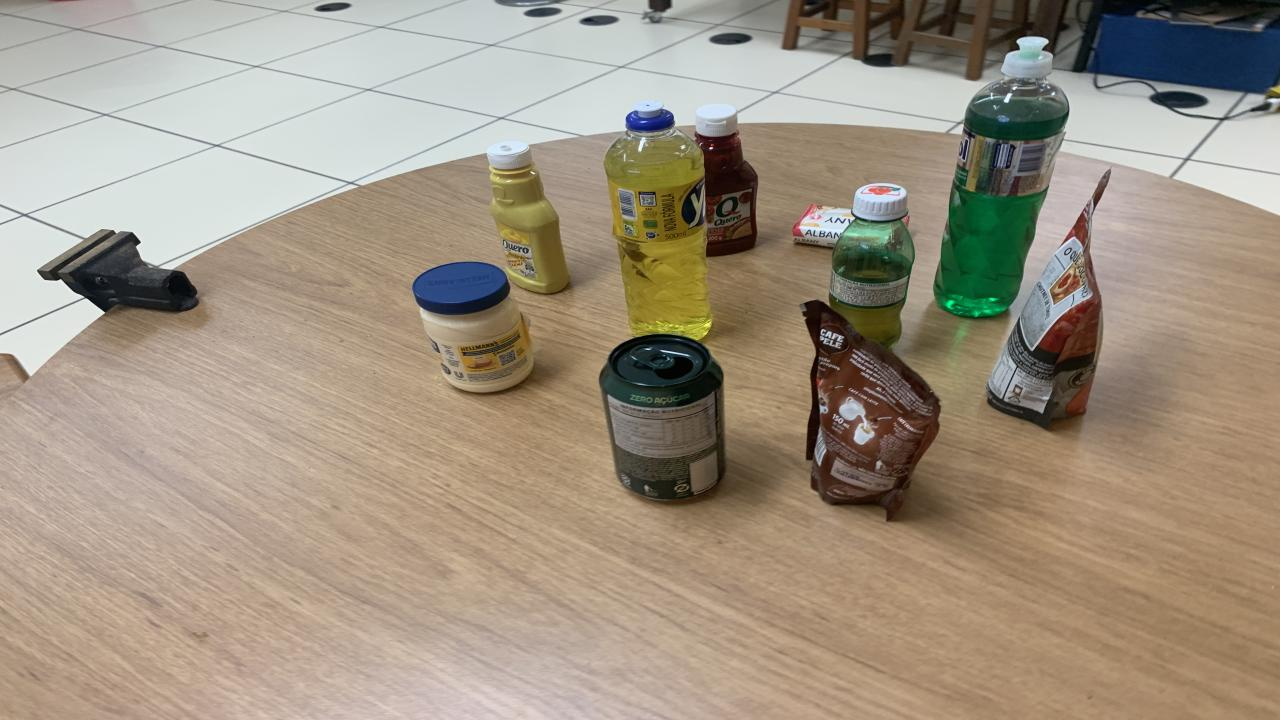Coffee-Pantry_Items: (800, 300, 940, 521)
Detergent-Cleanup_Items: (935, 36, 1070, 317), (605, 101, 712, 339)
Guarana-Drinks: (830, 218, 915, 347)
Guarana_Can-Drinks: (600, 334, 725, 501)
Ketchup-Pantry_Items: (695, 105, 758, 255)
Mayonnaise-Pantry_Items: (412, 262, 532, 392)
Mustard-Pantry_Items: (488, 142, 570, 292)
Soap-Cleanup_Items: (792, 204, 852, 248)
Tomato_Sauce-Pantry_Items: (988, 172, 1110, 428)
